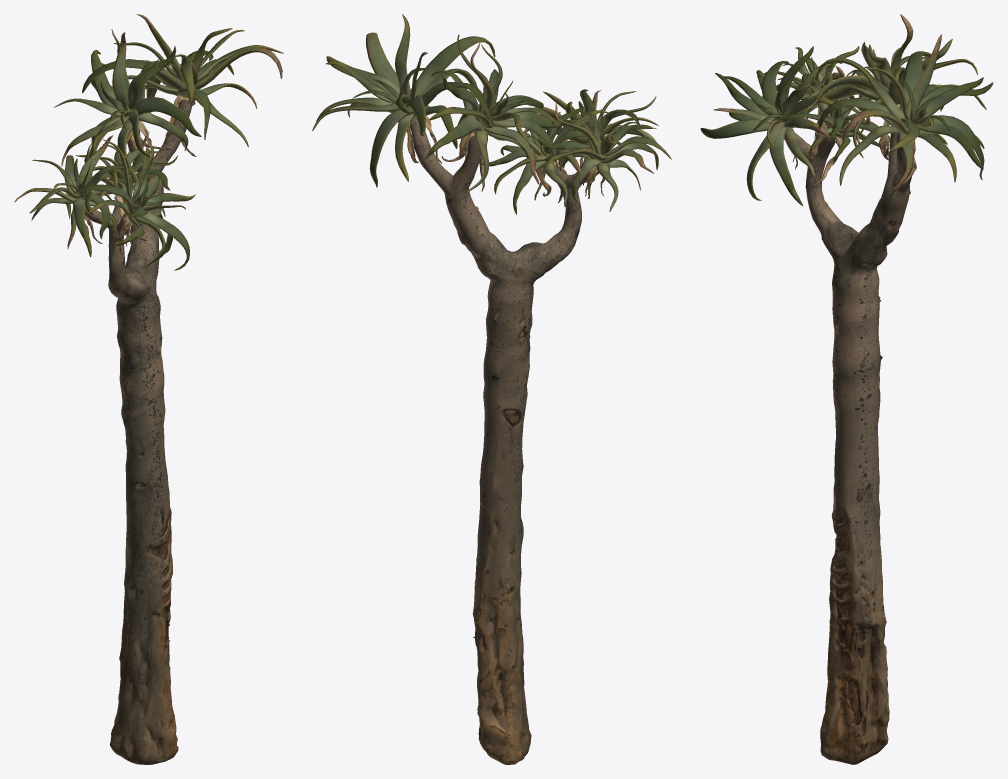
Rendered from quiver_tree_01.glb.
The picture shows the model from 3 angles, left to right: view 1: azimuth 30°, elevation 25°; view 2: azimuth 150°, elevation 25°; view 3: azimuth 270°, elevation 25°; orthographic projection. The views are drawn at different scales.
Visible parts, largest first — view 1: quiver_tree_01; view 2: quiver_tree_01; view 3: quiver_tree_01.
Part boxes in pixels (x1,y1,x2,y2): quiver_tree_01: (14,14,283,764); quiver_tree_01: (312,14,671,764); quiver_tree_01: (700,14,993,764).
Size of the model in its own units: 1.18 by 2.72 by 0.9677.
Materials: 2 (2 with a texture image).
